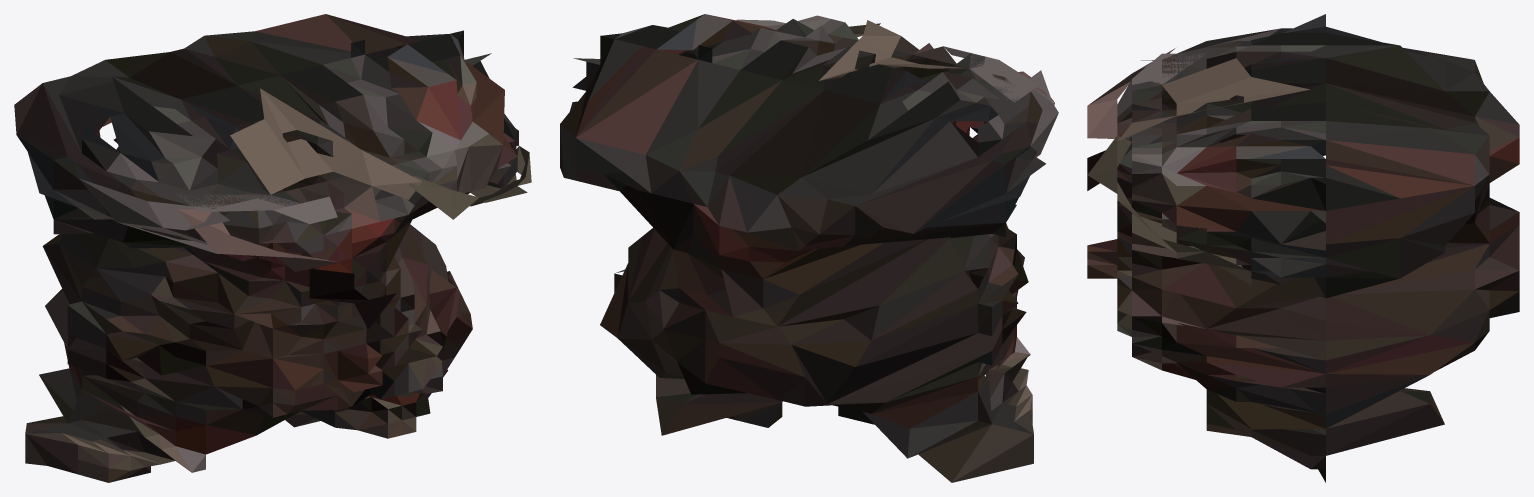
File: B04_3_reaver_warboots.obj
The picture shows the model from 3 angles, left to right: view 1: azimuth 30°, elevation 25°; view 2: azimuth 150°, elevation 25°; view 3: azimuth 270°, elevation 25°; orthographic projection. The views are drawn at different scales.
Parts seen in each view (by area): view 1: B04_3_reaver_warboots; view 2: B04_3_reaver_warboots; view 3: B04_3_reaver_warboots.
Part boxes in pixels (left/top/right/bottom): B04_3_reaver_warboots: left=14, top=14, right=531, bottom=482; B04_3_reaver_warboots: left=560, top=14, right=1058, bottom=482; B04_3_reaver_warboots: left=1087, top=14, right=1519, bottom=482.
Size of the model in its own units: 33 by 25 by 29.
